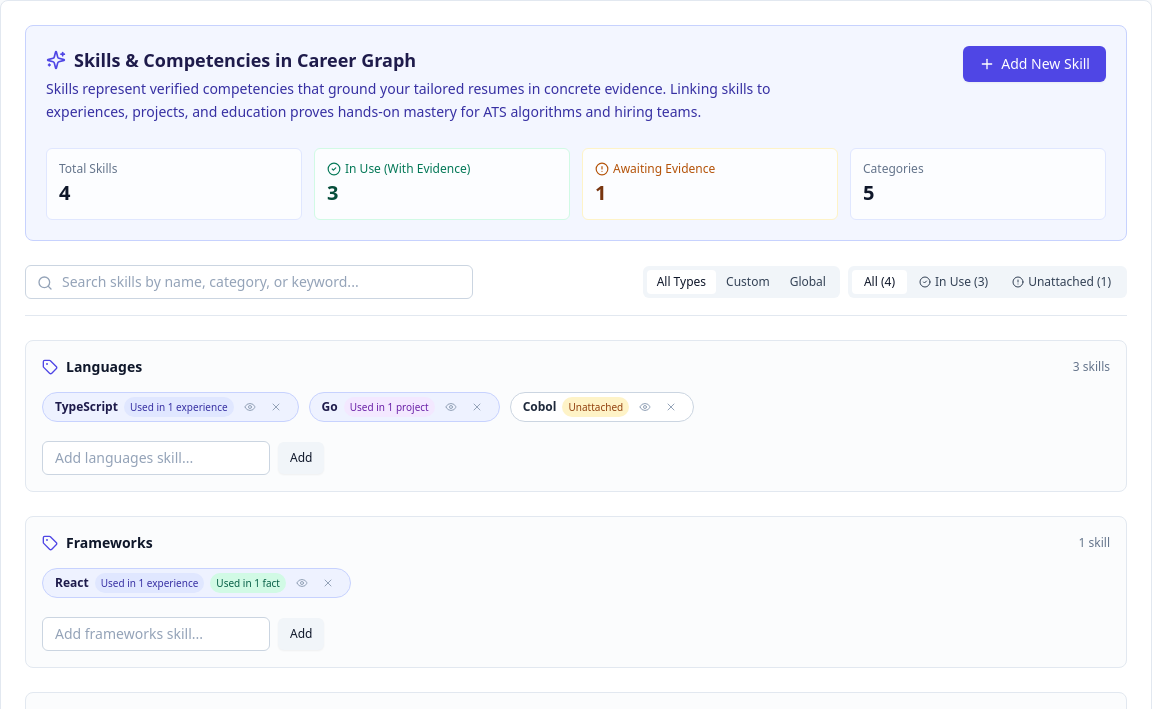
SkillsManager › filters skills by usage status (All, Attached, Unattached)
Click the button "Unattached (1)" at (1062, 282), box top-left (1000, 270), bottom-right (1123, 294)
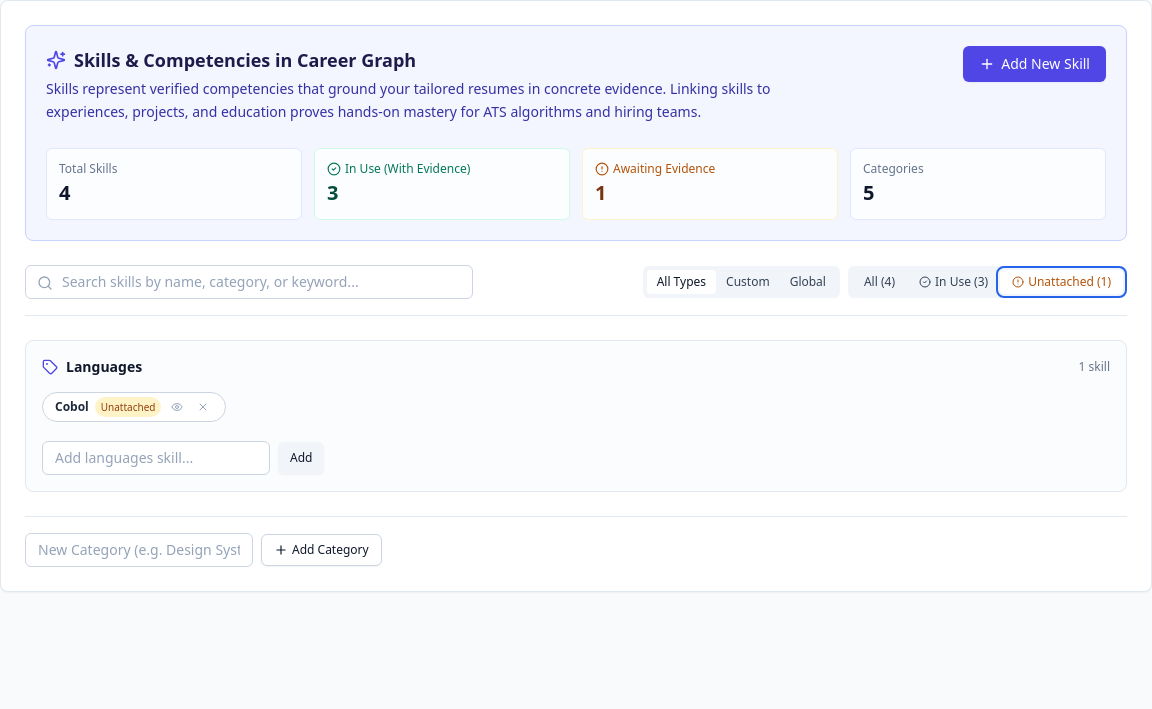
Expected: the text "Cobol" is shown, top-left (55, 398), bottom-right (89, 414)
Result: the text "TypeScript" is gone
Result: the text "React" is gone
// Filter to Attached
Click the button "In Use (3)" at (954, 282), box top-left (907, 270), bottom-right (1000, 294)
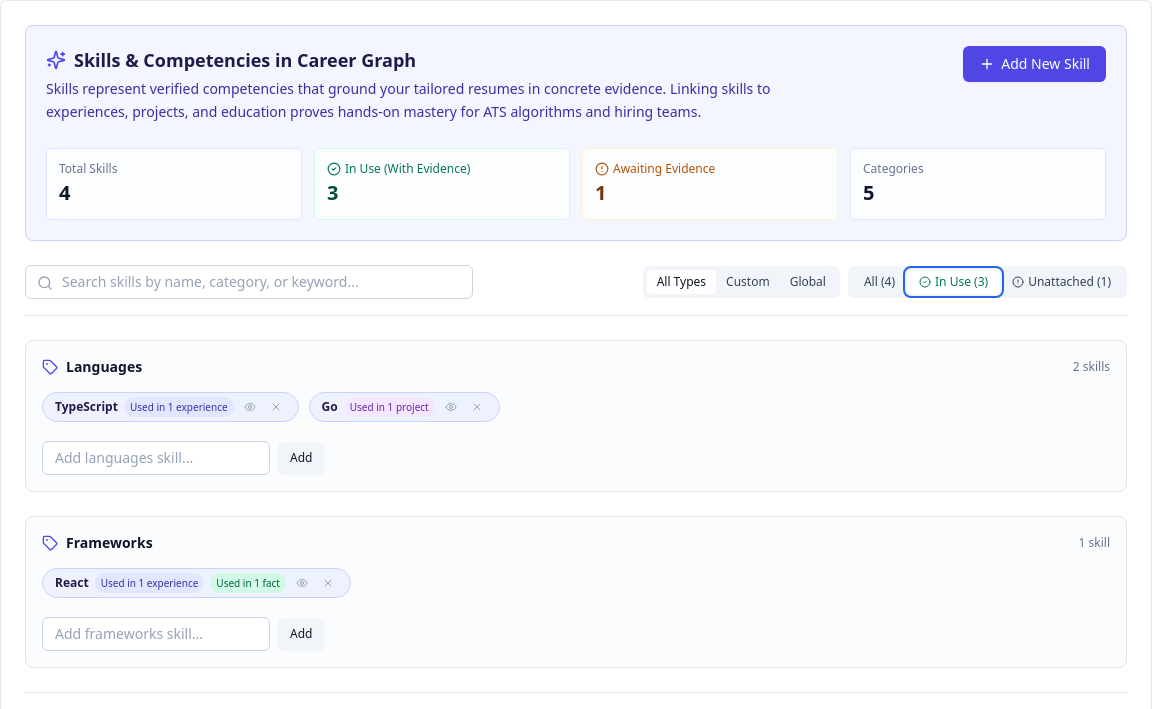
Result: the text "Cobol" is gone
Result: the text "TypeScript" is shown at top-left (55, 398), bottom-right (118, 414)
Result: the text "Go" is shown at top-left (322, 398), bottom-right (338, 414)
